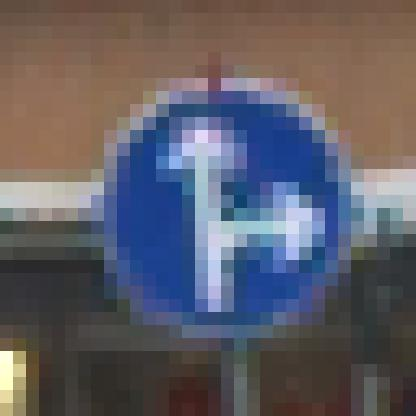Straight or Right: (79, 79, 352, 352)
